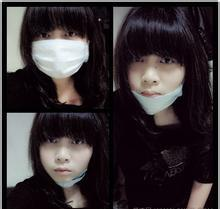NONE: (43, 136, 90, 189)
OK: (29, 21, 88, 80)
WRONG: (129, 53, 184, 112)
